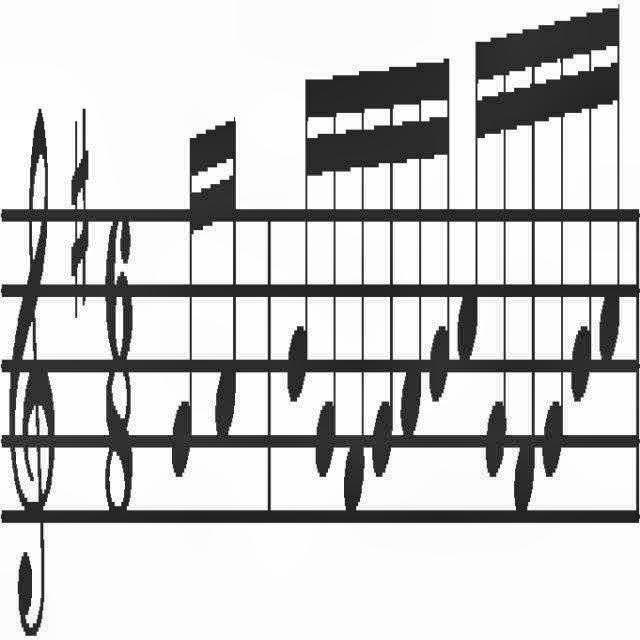Bass-clef: (0, 32, 56, 640)
Diez: (67, 82, 95, 314)
Sixteenth-note: (512, 19, 540, 534), (340, 43, 368, 529), (164, 128, 200, 488), (366, 52, 396, 484), (310, 52, 340, 476), (274, 66, 310, 414), (483, 25, 509, 473), (542, 7, 566, 489), (566, 0, 594, 410), (597, 0, 626, 384), (396, 48, 424, 440), (424, 38, 452, 414), (212, 112, 240, 452), (456, 23, 478, 384)
